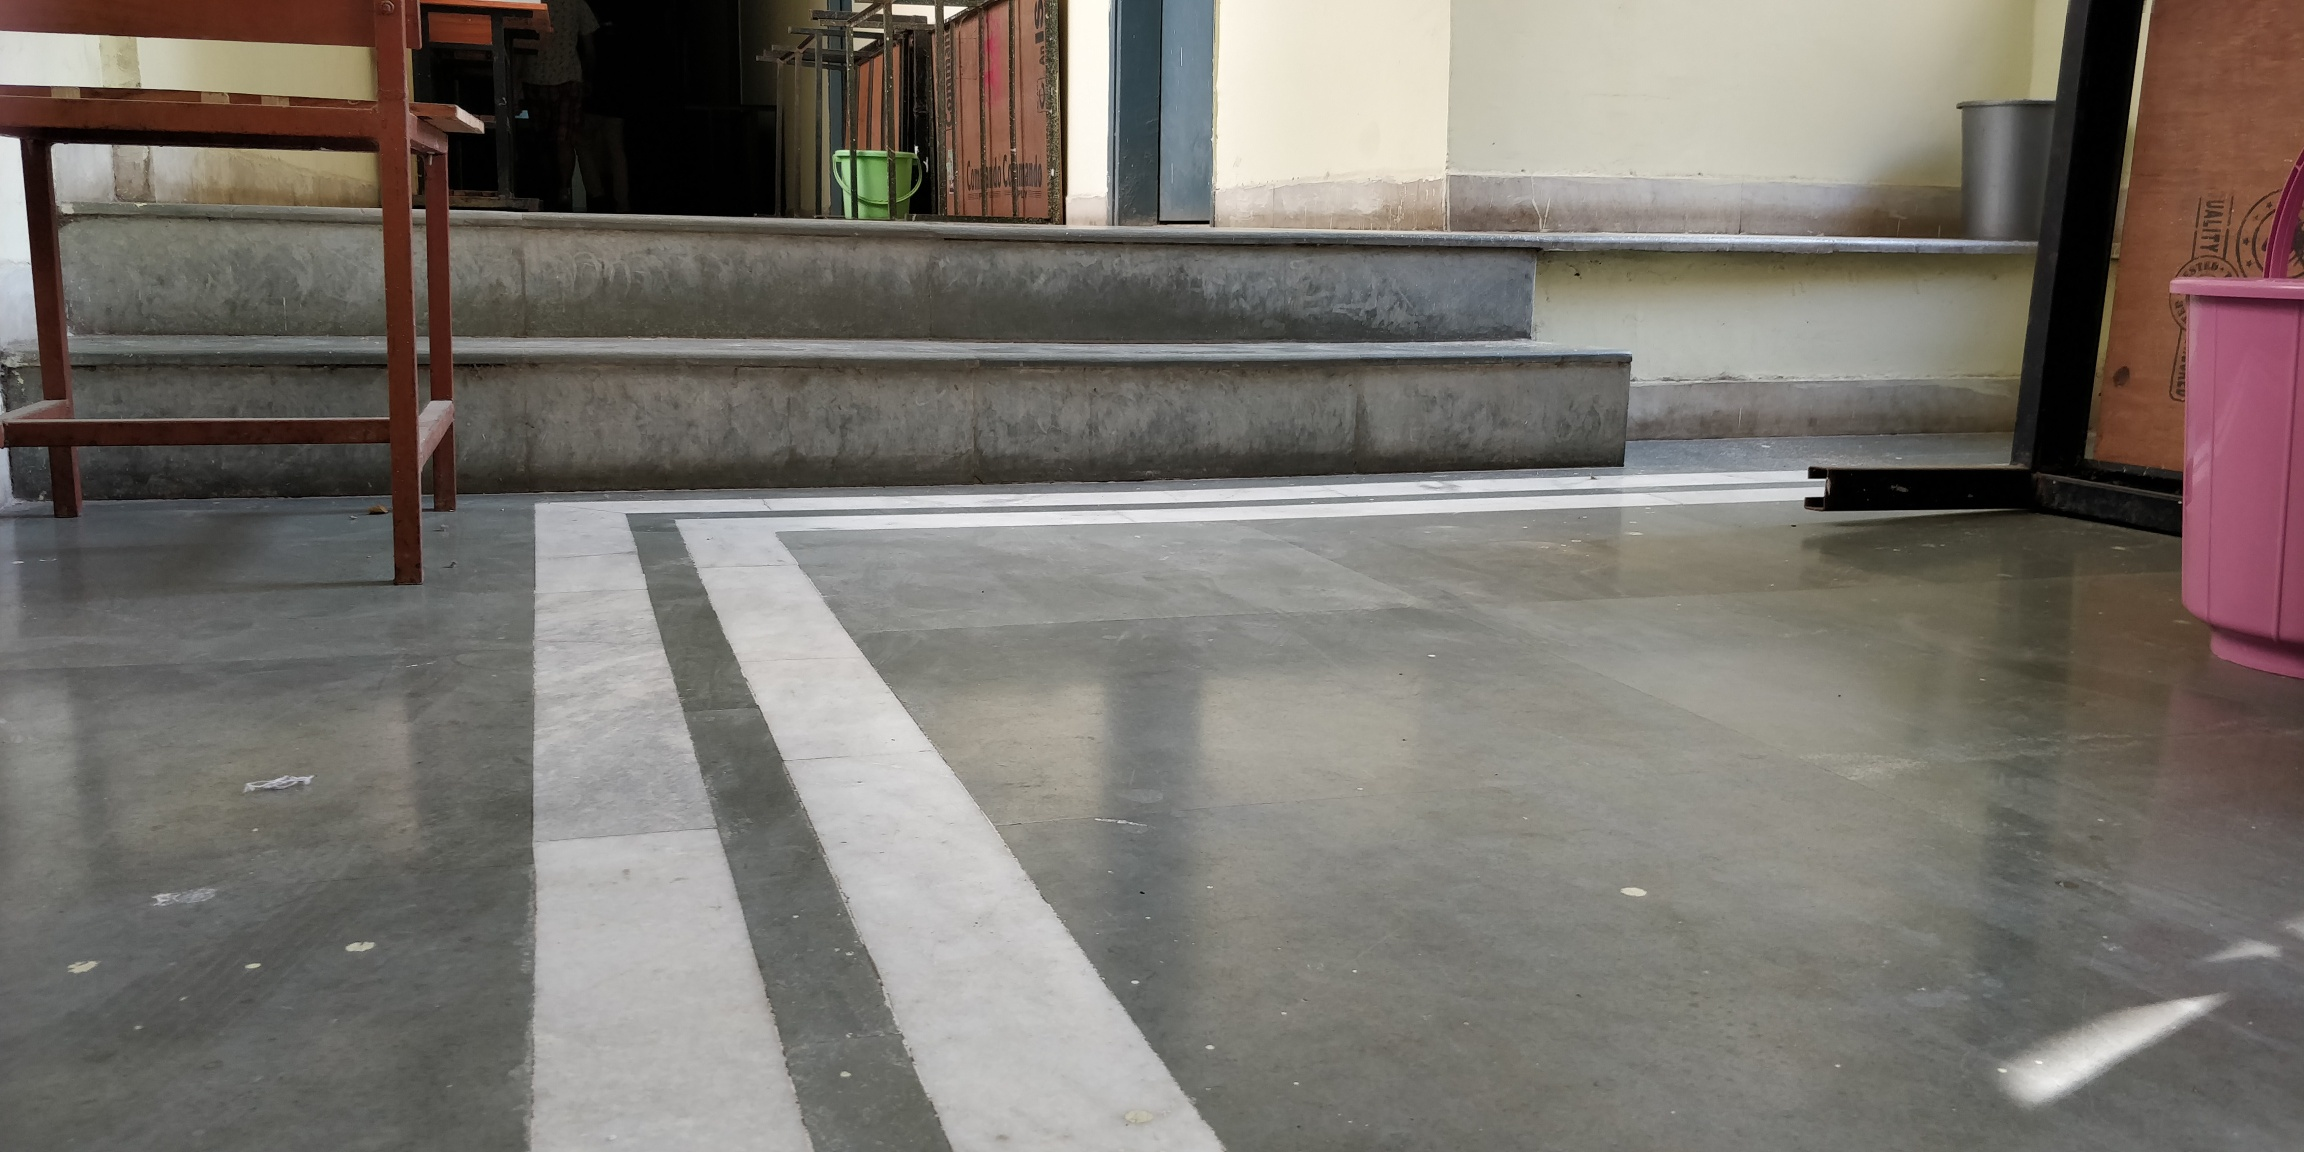stairs_up: (18, 170, 1631, 542)
